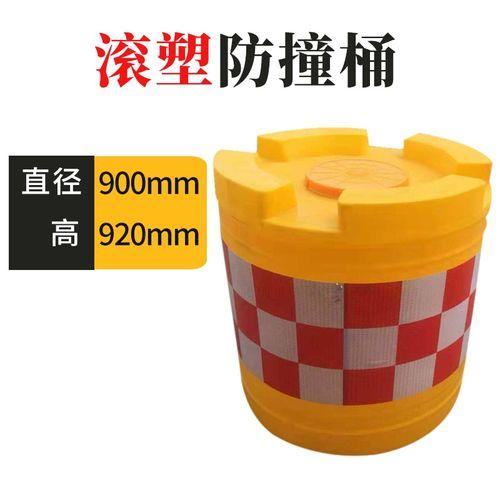sign: (208, 118, 496, 457)
